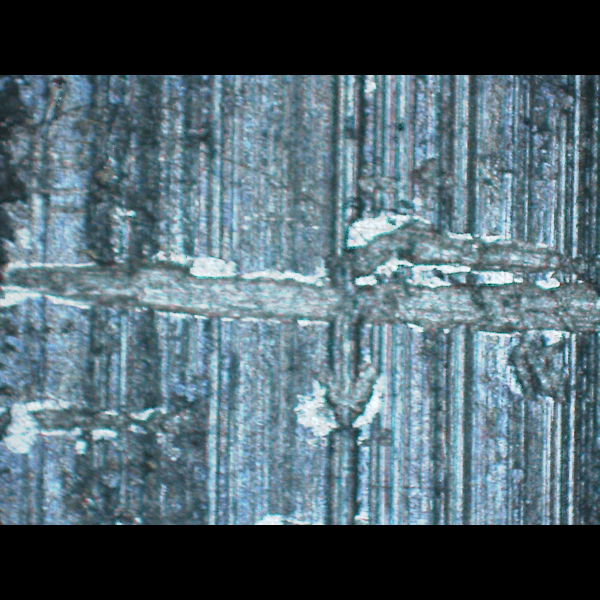d: (1, 208, 600, 341), (291, 360, 404, 458), (0, 404, 198, 452), (496, 331, 574, 410)
